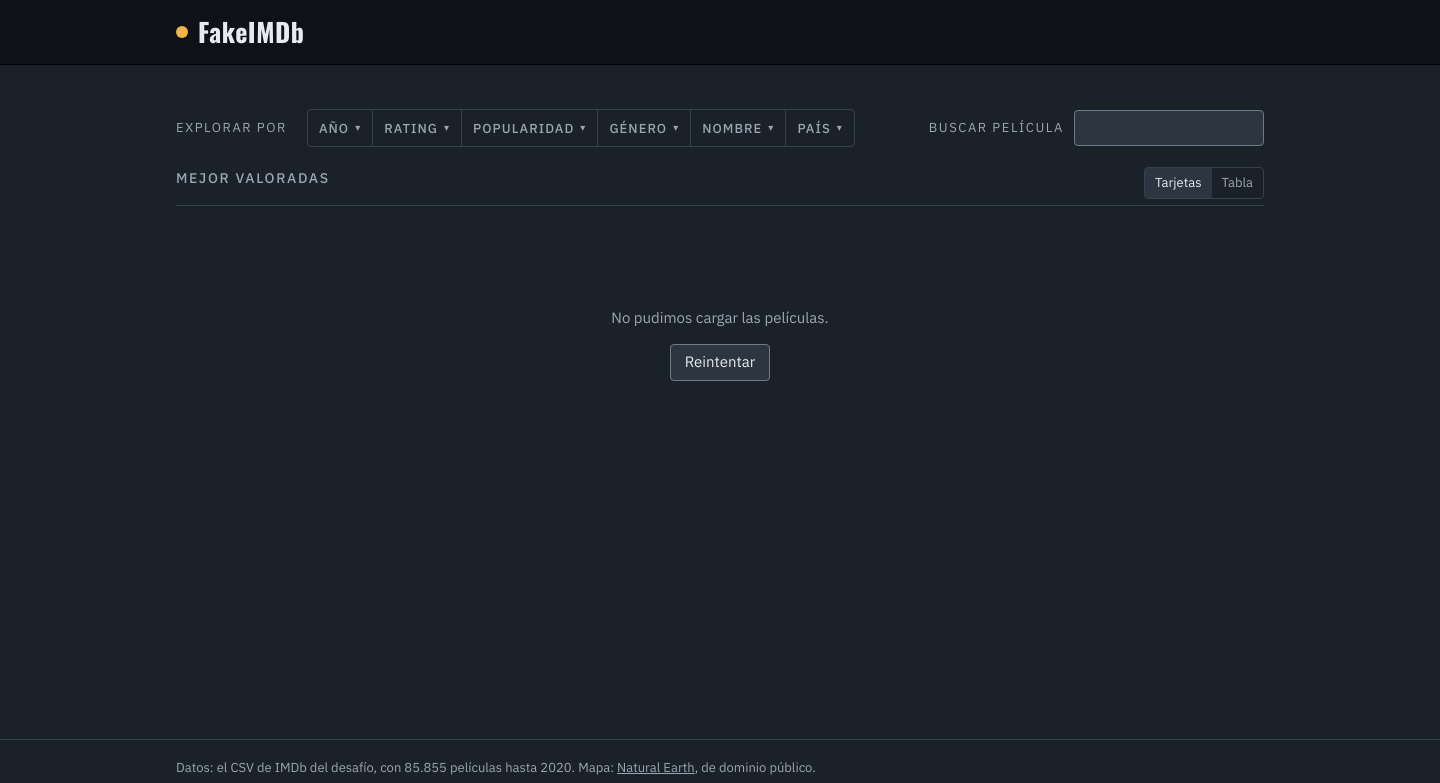
Test case: browse page › shows an error with a way to retry
Expected: the message shows "No pudimos cargar las películas.", [611, 308, 829, 326]
Click the button "Reintentar": (720, 362) [670, 344, 770, 380]
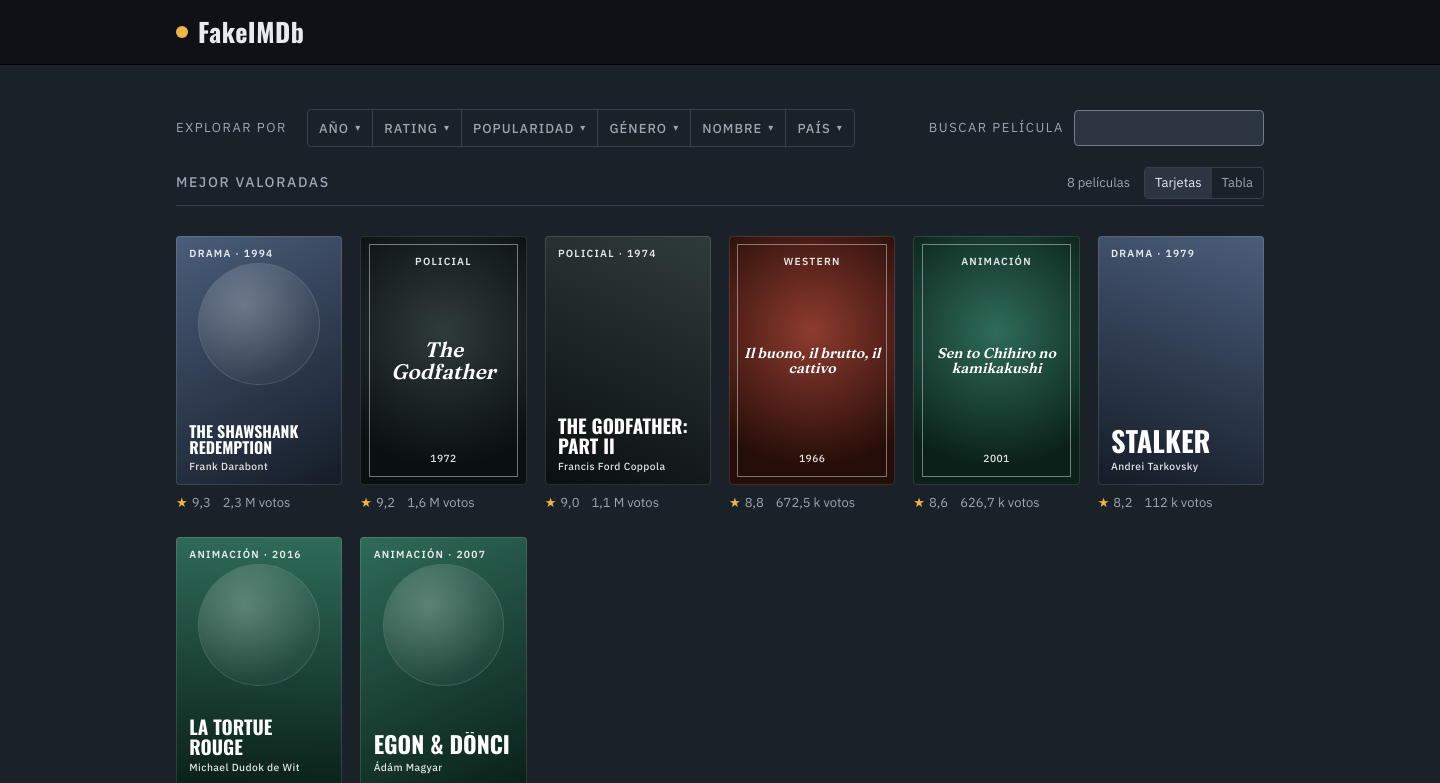
Result: the link with aria-label "Stalker (1979)" is shown at [1098, 236, 1264, 485]
Result: the message "No pudimos cargar las películas. Reintentar" is gone
